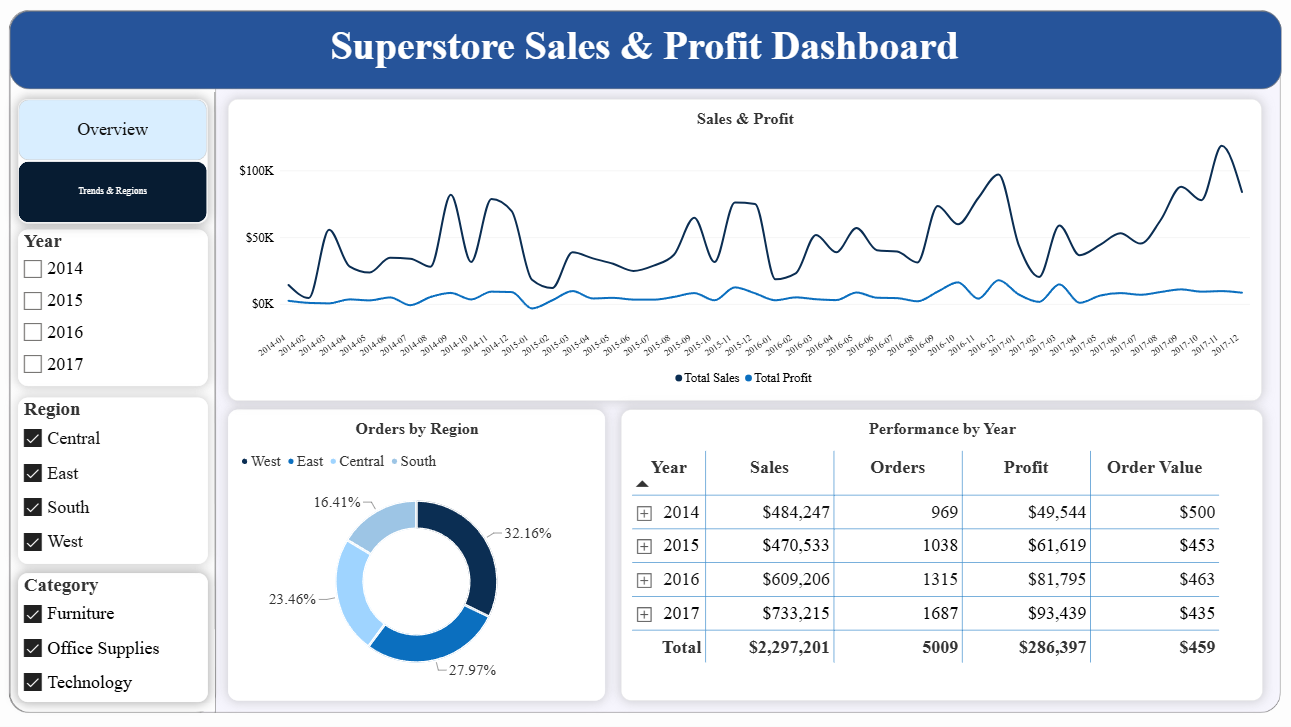

Layout of this report page (visuals, bound fields, positions):
{"tool":"powerbi","page":{"name":"Trends & Regions","canvas":[1920,1080],"ordinal":1},"visuals":[{"type":"donutChart","title":"Orders by Region","fields":{"Category":["Sales.Region"],"Y":["Sales.Total Orders"]},"box":[343.3,607.6,559,431.4],"z":0},{"type":"lineChart","title":"Sales & Profit","fields":{"Category":["DimDate.YearMonth"],"Y":["Sales.Total Sales","Sales.Total Profit"]},"box":[343.3,145.8,1531.6,447.4],"z":1000},{"type":"pivotTable","title":"Performance by Year","fields":{"Rows":["DimDate.Year","DimDate.MonthName"],"Values":["Sales.Total Sales","Sales.Total Orders","Sales.Total Profit","Sales.Avg Order Value"]},"box":[923.5,607.6,950.9,431.4],"z":2000},{"type":"textbox","box":[322.2,33.3,1274,74],"z":3000},{"type":"slicer","fields":{"Values":["Sales.Category"]},"box":[30,847.8,281.1,191.1],"z":4000},{"type":"slicer","fields":{"Values":["DimDate.Year"]},"box":[30,338.9,281.1,232.2],"z":5000},{"type":"slicer","fields":{"Values":["Sales.Region"]},"box":[30,588.9,281.1,246.7],"z":6000},{"type":"pageNavigator","box":[30,145.6,281.1,184.4],"z":7000}]}

Visuals, with their boxes in screenshot pixels (x1, y1, x2, y2), scaled from the page's 1920x1080 canvas onto the 1291x727 screenshot:
"Orders by Region" donutChart: [x1=231, y1=409, x2=607, y2=699]
"Sales & Profit" lineChart: [x1=231, y1=98, x2=1261, y2=399]
"Performance by Year" pivotTable: [x1=621, y1=409, x2=1260, y2=699]
textbox: [x1=217, y1=22, x2=1073, y2=72]
slicer - Sales.Category: [x1=20, y1=571, x2=209, y2=699]
slicer - DimDate.Year: [x1=20, y1=228, x2=209, y2=384]
slicer - Sales.Region: [x1=20, y1=396, x2=209, y2=562]
pageNavigator: [x1=20, y1=98, x2=209, y2=222]
